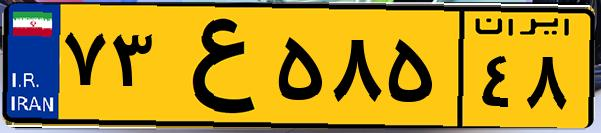3: (110, 28, 158, 98)
4: (475, 38, 525, 113)
5: (270, 28, 330, 110), (385, 28, 445, 110)
7: (57, 26, 110, 100)
8: (330, 28, 385, 110), (525, 38, 570, 115)
ع: (158, 12, 270, 120)
